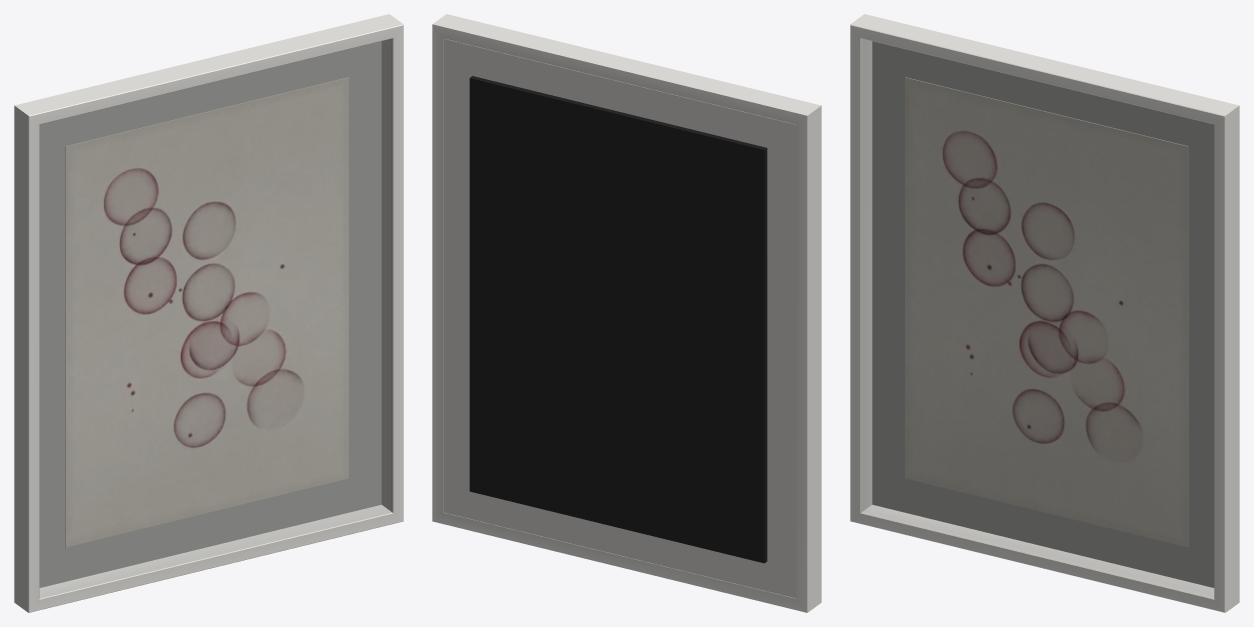
The model's file is art_wine_rings.gltf.
3 renders of one model, left to right at view 1: azimuth 30°, elevation 25°; view 2: azimuth 150°, elevation 25°; view 3: azimuth 330°, elevation 25°, orthographic.
Parts seen in each view (by area): view 1: Art_WineRings_Art, Art_WineRings_Backing, Art_WineRings_Frame; view 2: Art_WineRings_Spacer, Art_WineRings_Backing, Art_WineRings_Frame; view 3: Art_WineRings_Art, Art_WineRings_Backing, Art_WineRings_Frame.
Part boxes in pixels (x1,y1,x2,y2): Art_WineRings_Art: [65, 77, 348, 547]; Art_WineRings_Backing: [39, 41, 381, 587]; Art_WineRings_Frame: [14, 14, 403, 612]; Art_WineRings_Spacer: [469, 76, 767, 563]; Art_WineRings_Backing: [443, 38, 796, 598]; Art_WineRings_Frame: [432, 14, 821, 612]; Art_WineRings_Art: [905, 77, 1188, 547]; Art_WineRings_Backing: [872, 41, 1214, 587]; Art_WineRings_Frame: [850, 14, 1239, 612].
Size of the model in its own units: 0.75 by 0.95 by 0.06.
4 materials, 1 textured.
